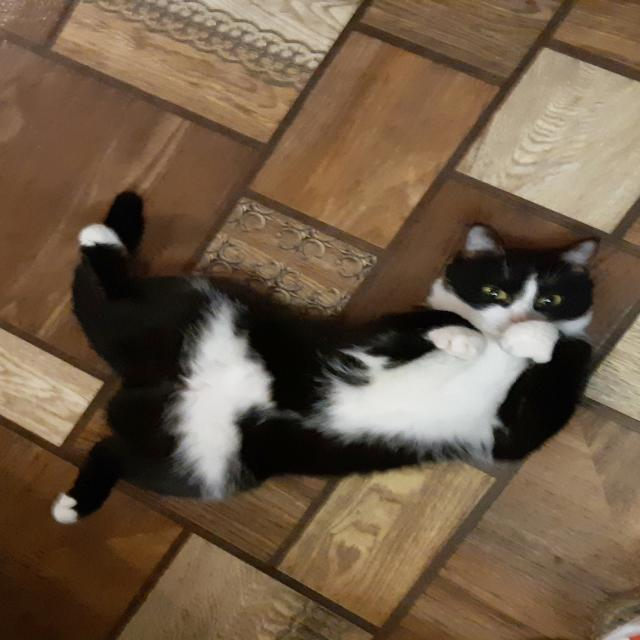da khoe manh: (168, 329, 416, 463)
